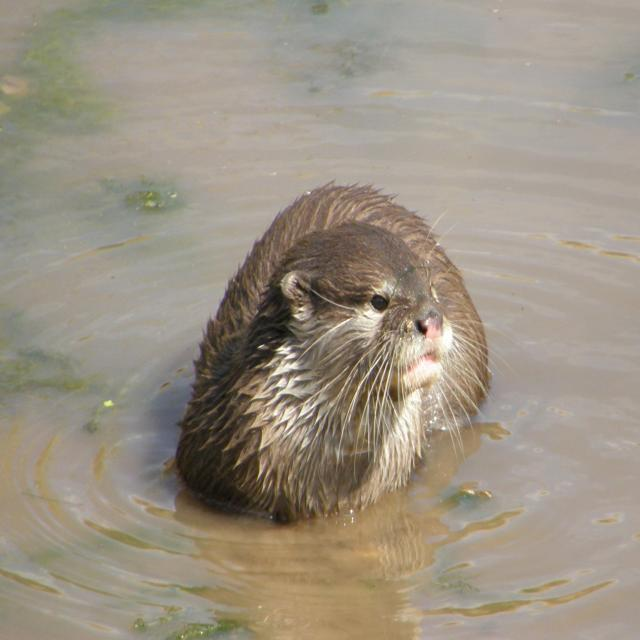otter: (178, 182, 490, 522)
